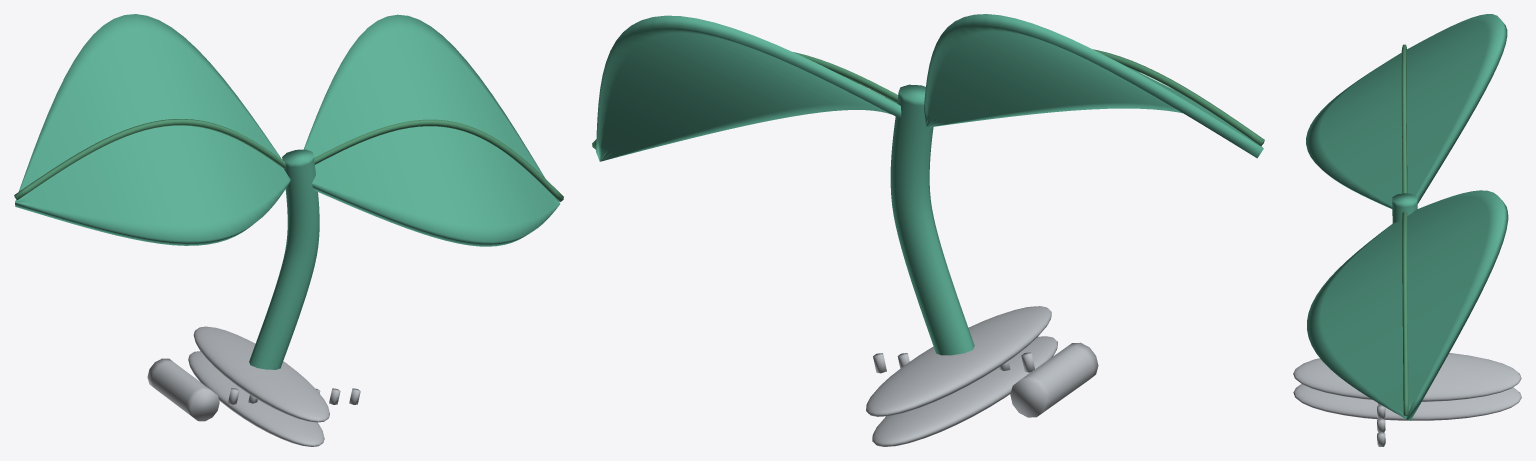
Rendered from Masculine-curly-top-cap259-sprout.glb.
3 views of the same model, side by side, from view 1: azimuth 30°, elevation 25°; view 2: azimuth 150°, elevation 25°; view 3: azimuth 270°, elevation 25° (orthographic). The views are drawn at different scales.
Visible parts, largest first — view 1: 226 extra / Accessory / mint226, 226 extra / Sprout / clip silver235, 226 extra / Sprout / leaf vein235; view 2: 226 extra / Accessory / mint226, 226 extra / Sprout / clip silver235, 226 extra / Sprout / leaf vein235; view 3: 226 extra / Accessory / mint226, 226 extra / Sprout / clip silver235, 226 extra / Sprout / leaf vein235.
Boxes of the visible parts, bbox=[...] form: 226 extra / Accessory / mint226: bbox=[15, 14, 560, 369]; 226 extra / Sprout / clip silver235: bbox=[147, 326, 360, 446]; 226 extra / Sprout / leaf vein235: bbox=[14, 119, 563, 201]; 226 extra / Accessory / mint226: bbox=[596, 14, 1263, 355]; 226 extra / Sprout / clip silver235: bbox=[866, 306, 1098, 446]; 226 extra / Sprout / leaf vein235: bbox=[592, 49, 1264, 149]; 226 extra / Accessory / mint226: bbox=[1306, 14, 1508, 420]; 226 extra / Sprout / clip silver235: bbox=[1293, 353, 1521, 446]; 226 extra / Sprout / leaf vein235: bbox=[1401, 44, 1408, 416].
Size of the model in its own units: 0.2644 by 0.1749 by 0.104.
